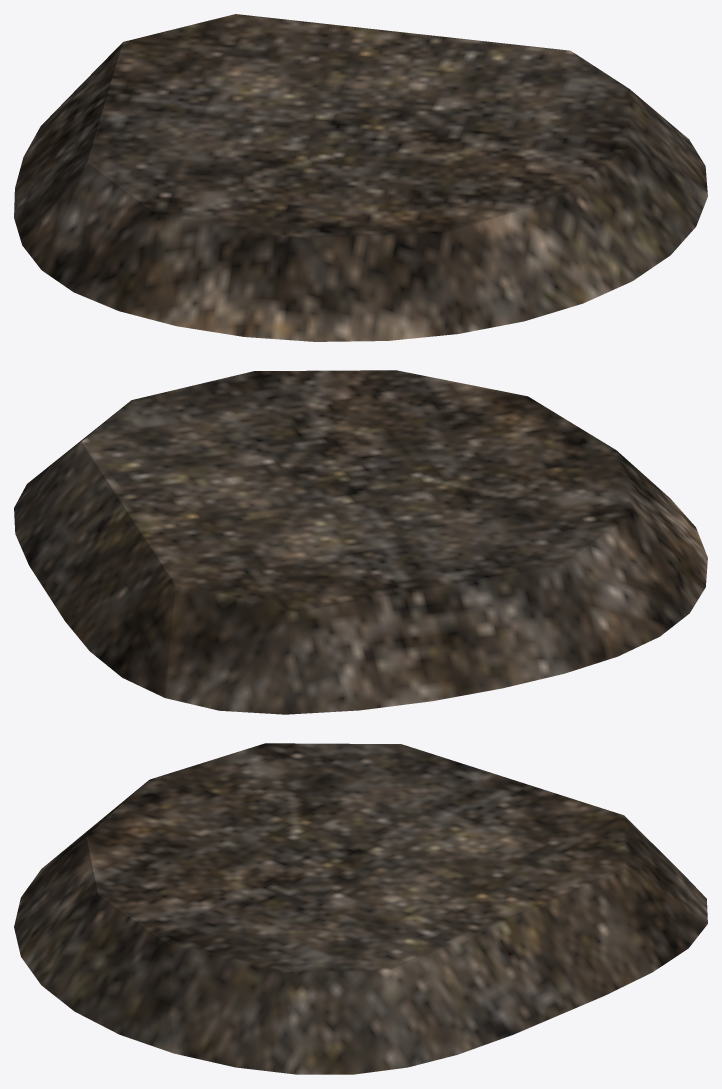
Rendered from SM_TI_Slab_1.fbx.
3 renders of one model, top to bottom at view 1: azimuth 30°, elevation 25°; view 2: azimuth 150°, elevation 25°; view 3: azimuth 270°, elevation 25°, orthographic. The views are drawn at different scales.
Visible parts, largest first — view 1: SM_TI_Slab_1; view 2: SM_TI_Slab_1; view 3: SM_TI_Slab_1.
Boxes of the visible parts, <box> form: SM_TI_Slab_1: <box>14,14,707,341</box>; SM_TI_Slab_1: <box>14,370,707,714</box>; SM_TI_Slab_1: <box>14,743,707,1074</box>.
Size of the model in its own units: 2.41 by 2.4 by 0.267.
